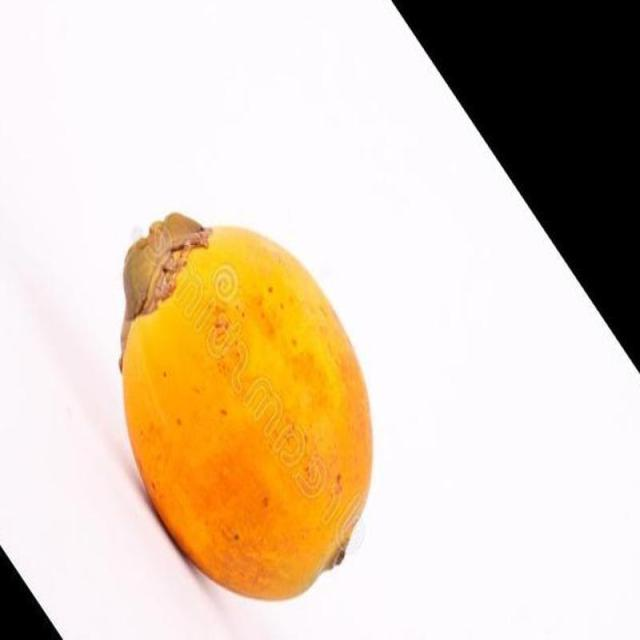good: (119, 215, 373, 604)
